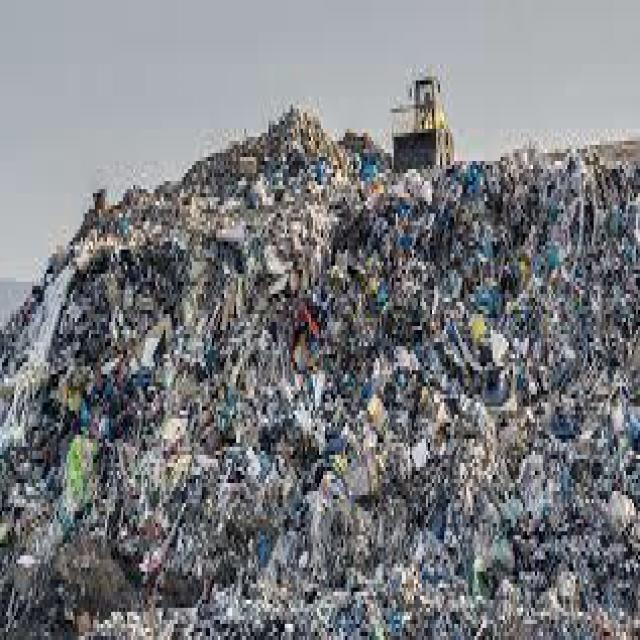garbage: (0, 72, 638, 636)
